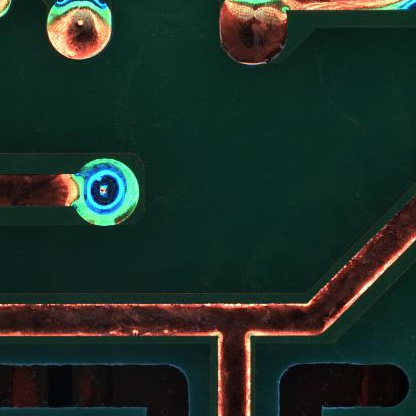spot: (73, 158, 142, 227)
